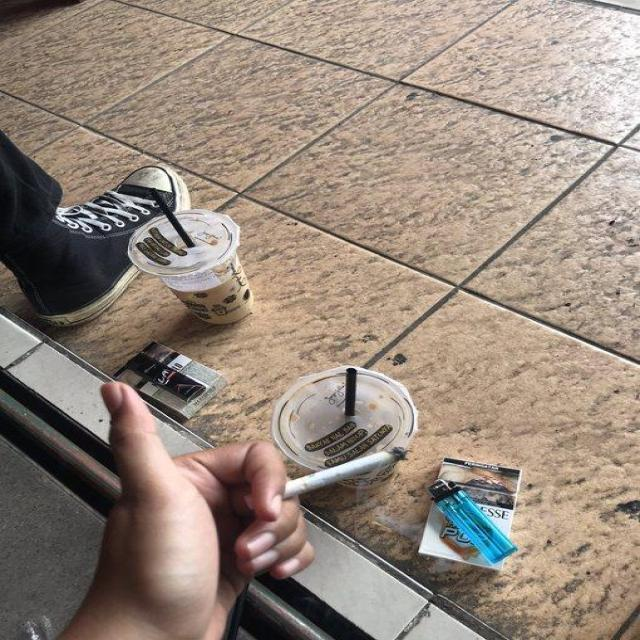rokok: (242, 436, 410, 512)
